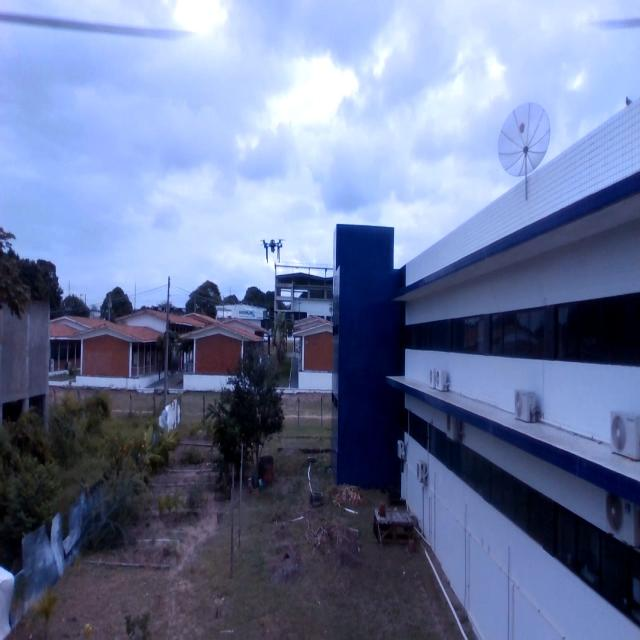-uav-: (261, 228, 286, 276)
